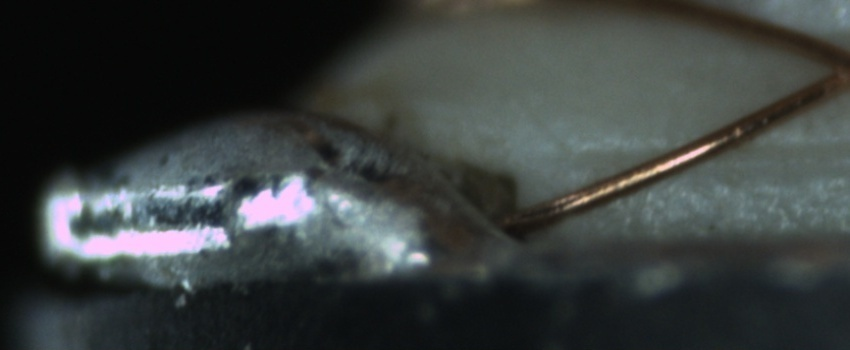CL: (804, 35, 850, 104)
DL: (562, 116, 849, 185)
